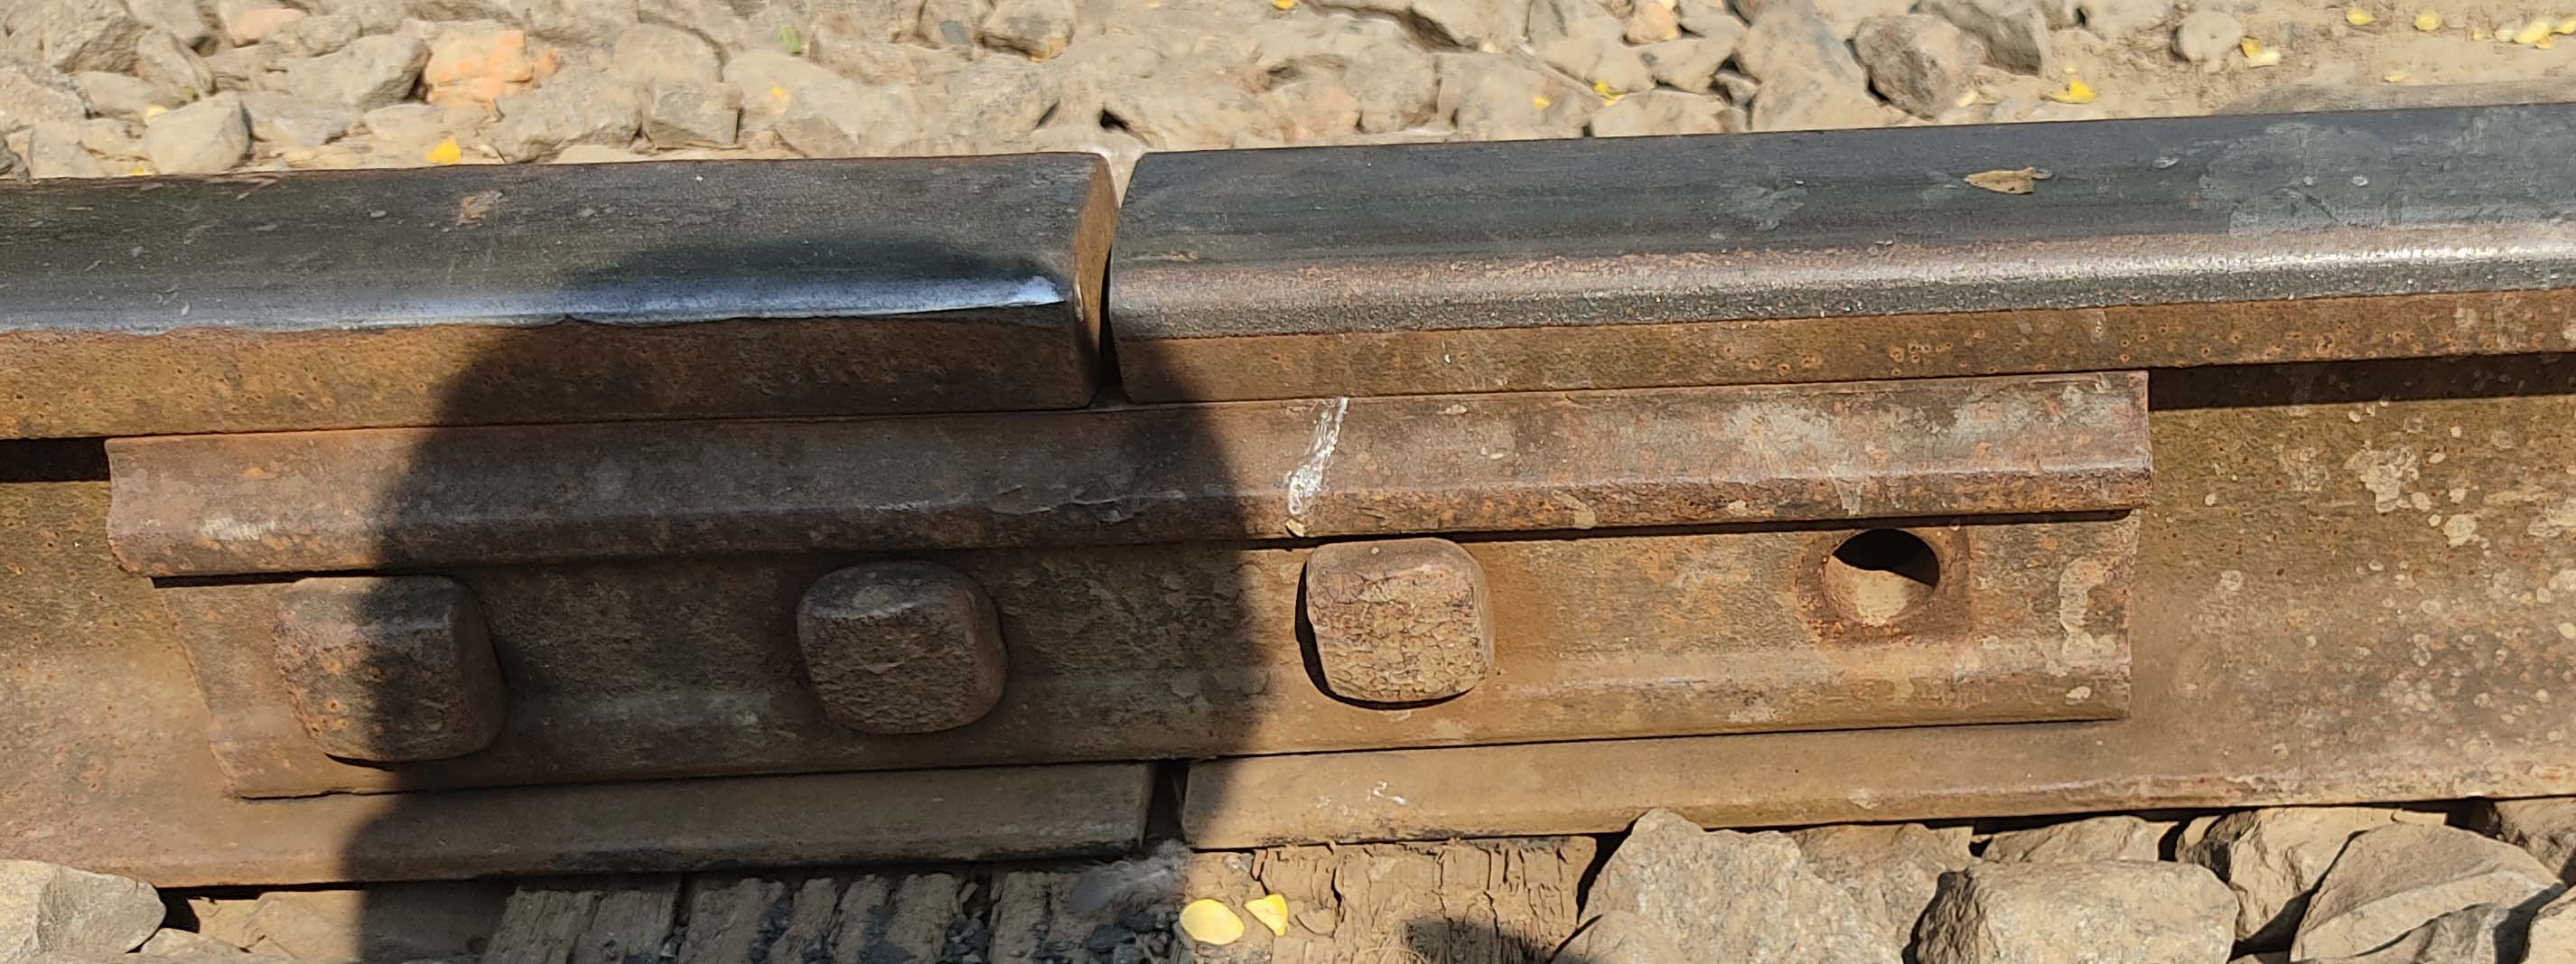error2: (958, 80, 1212, 422)
